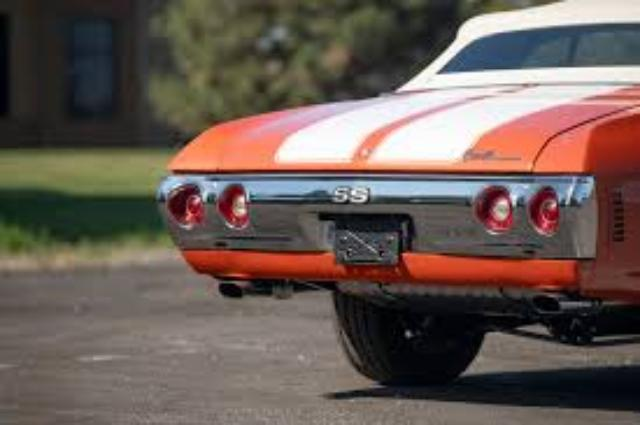chevelle-1972: (156, 0, 638, 382)
